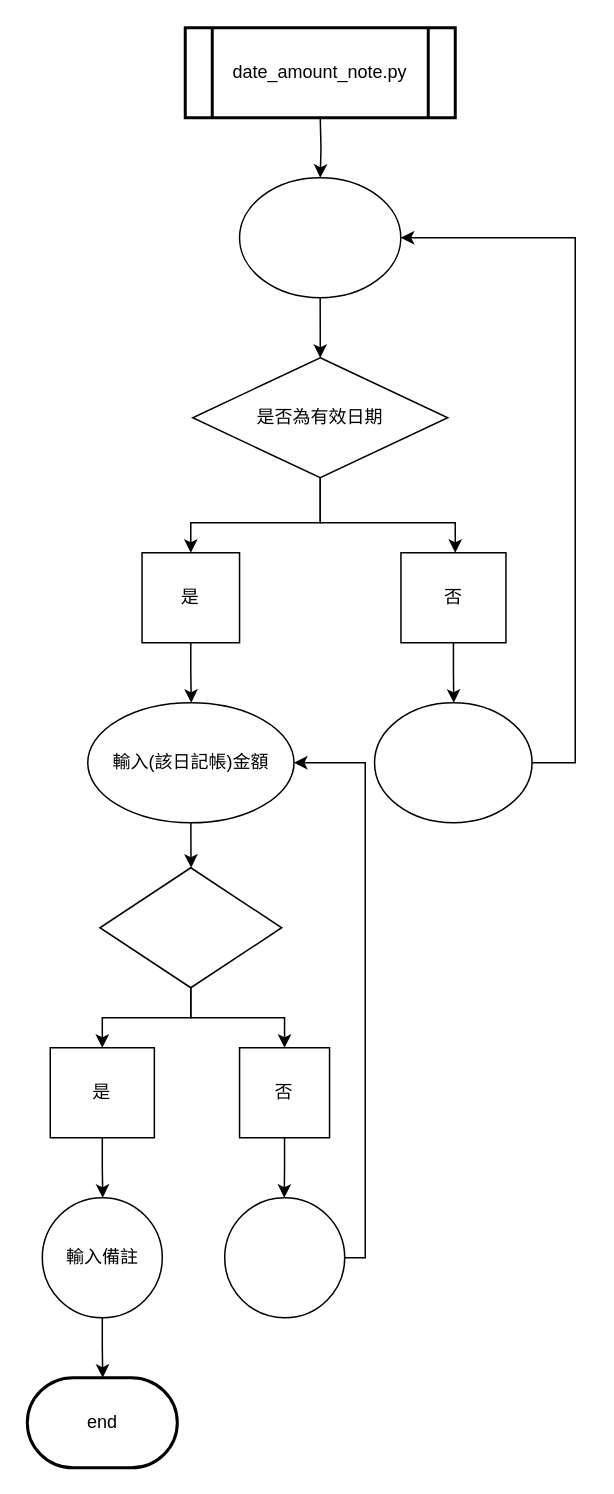
Image size: 614x1494. Some labels were removed from this diagram. The shapes that lost their labels are listed below. From the top down, each one's centre as x and y in pixels, then its label:
At point 319,237: "輸入(記帳)日期".
At point 452,762: "不是有效日期".
At point 190,927: "是否為整數".
At point 284,1257: "格式不對".
